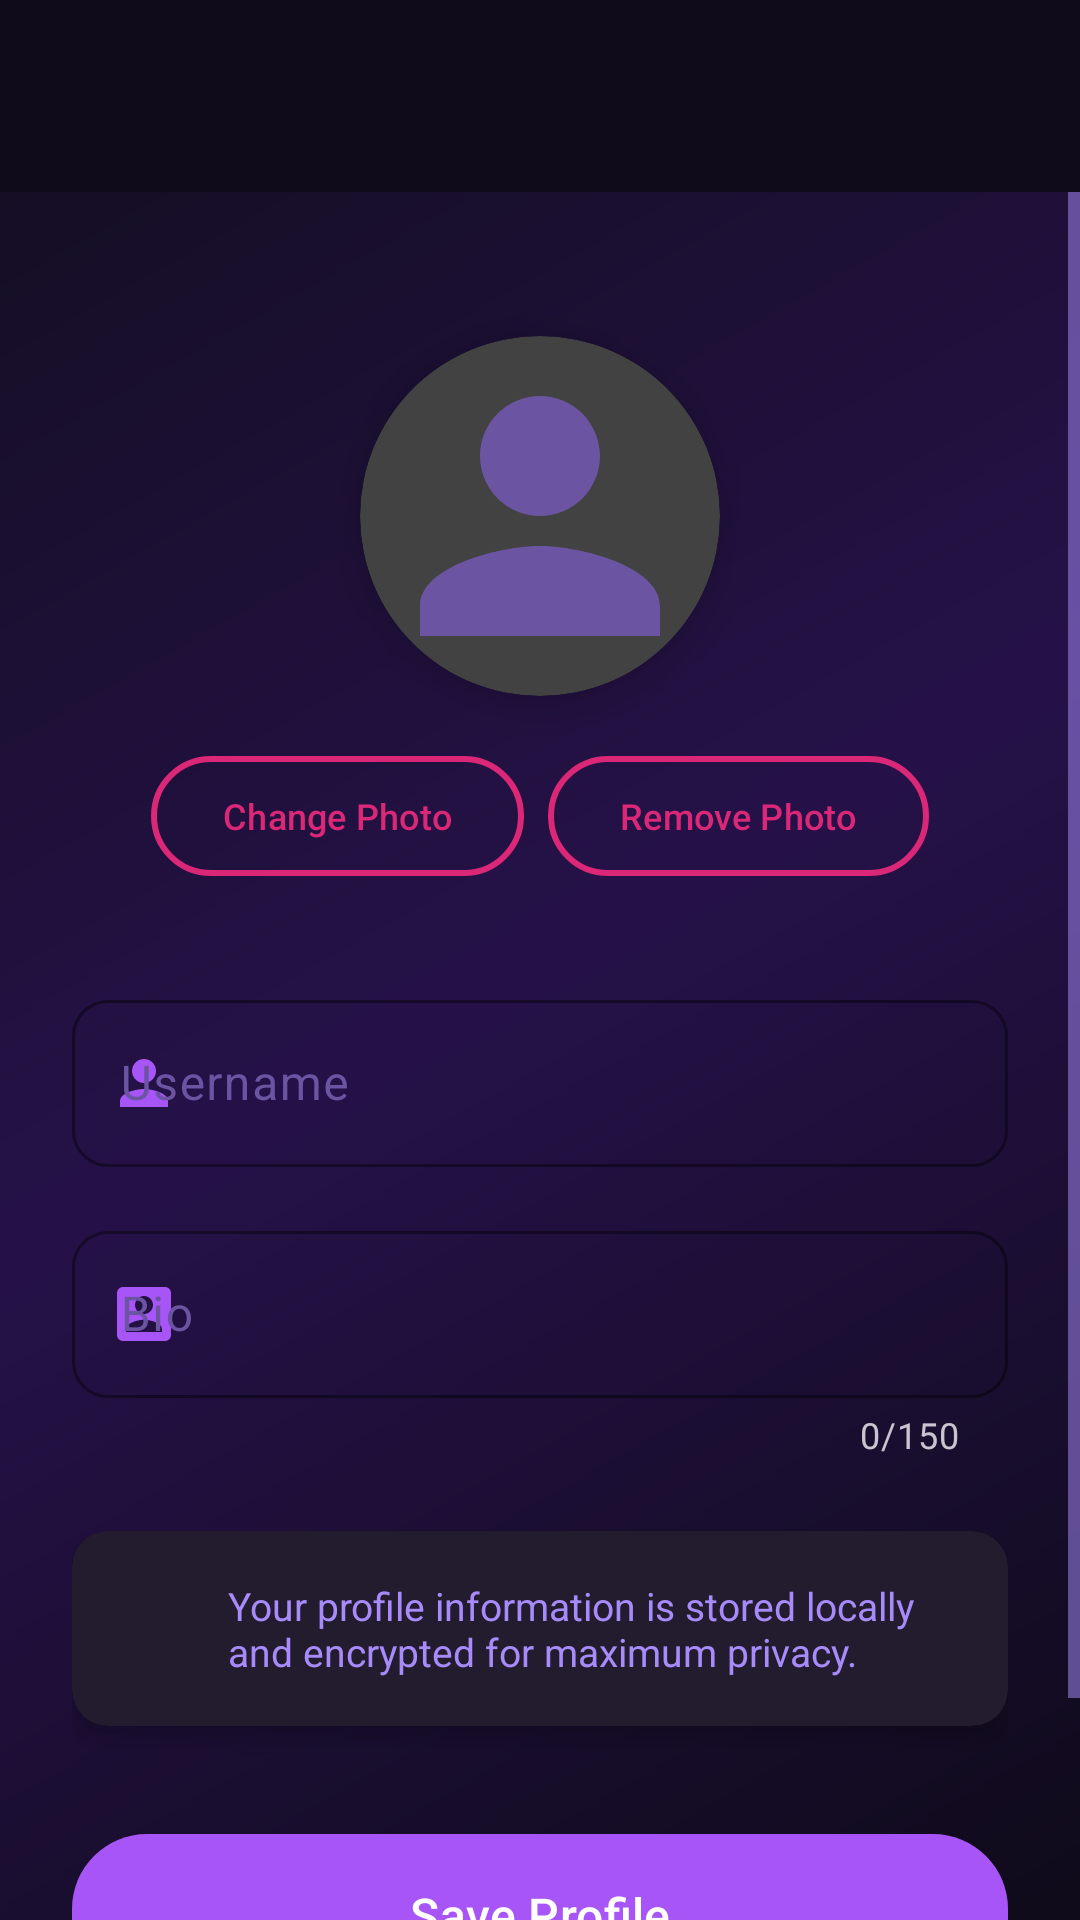

Screen size 1080 x 1920. Icon name, then its center in pixels as (x=x, y=y):
anonymous user: (x=540, y=516)
